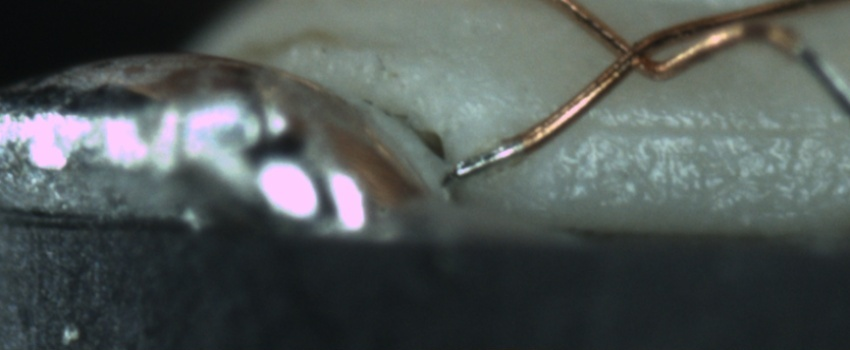CL: (592, 25, 669, 86)
DL: (565, 100, 850, 164)
TS: (445, 136, 525, 180)
